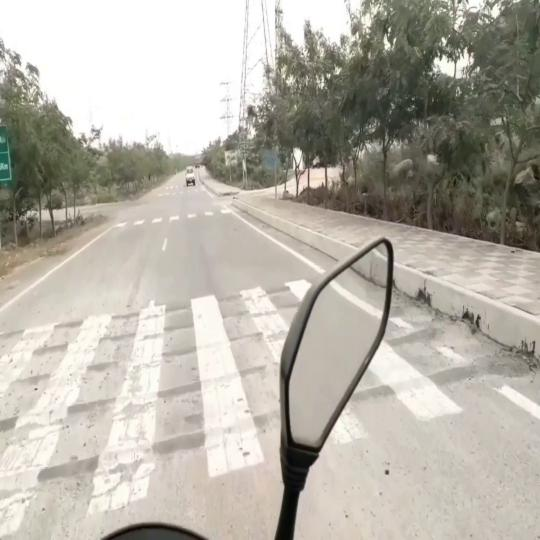Speed Bump: (0, 405, 279, 507), (0, 360, 278, 434), (0, 266, 284, 326), (0, 321, 278, 379), (0, 306, 275, 340), (372, 354, 494, 393), (384, 320, 439, 346)
